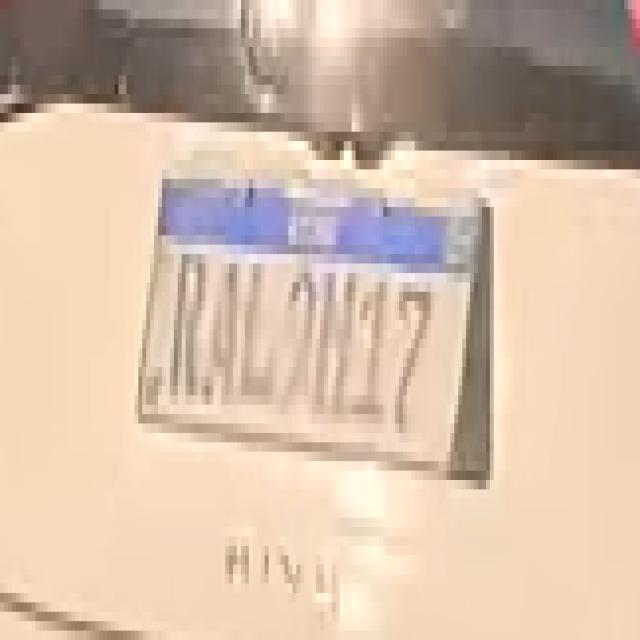Placa_mercosul_carro: (137, 175, 495, 479)
